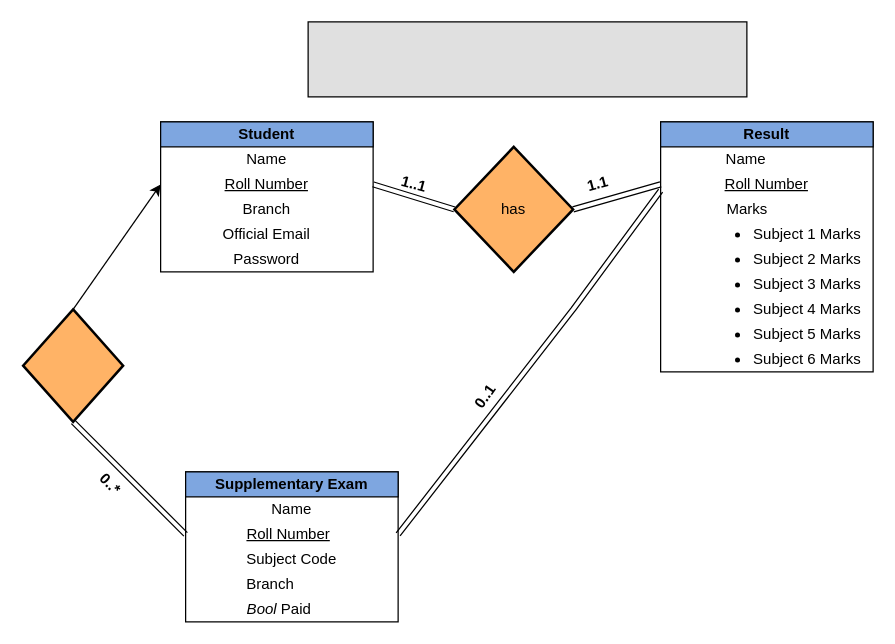
Image size: 895x644. Some labels were removed from this diagram. Each missing label, with the centre of its shape:
"E-R Diagram for Supplementary Examination System" belongs at pixel 527 59.
"Enrolled" belongs at pixel 72 365.
